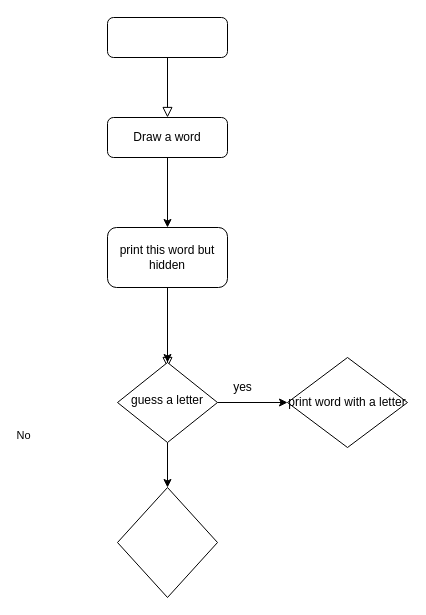
Image size: 426x615. Some labels were removed from this diagram. The shapes that lost their labels are listed below. From the top down, each one's centre as x and y in pixels, then its label:
point (167, 37): Start
point (167, 542): print gallows with new element
